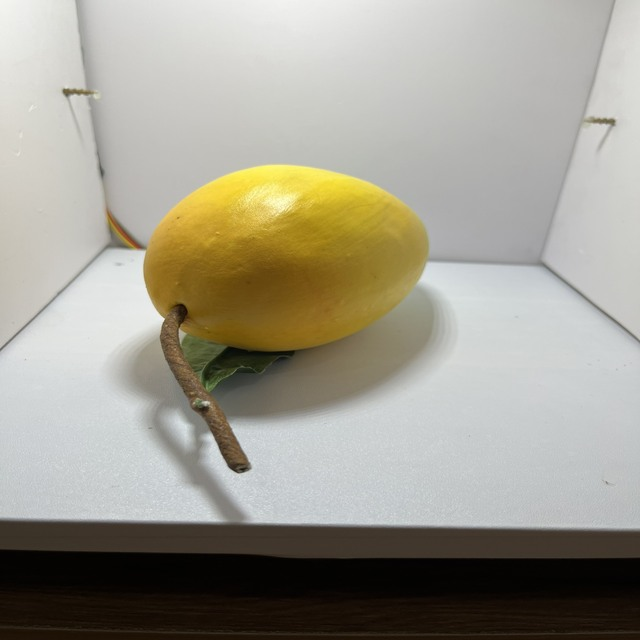Xoai: (138, 161, 439, 362)
